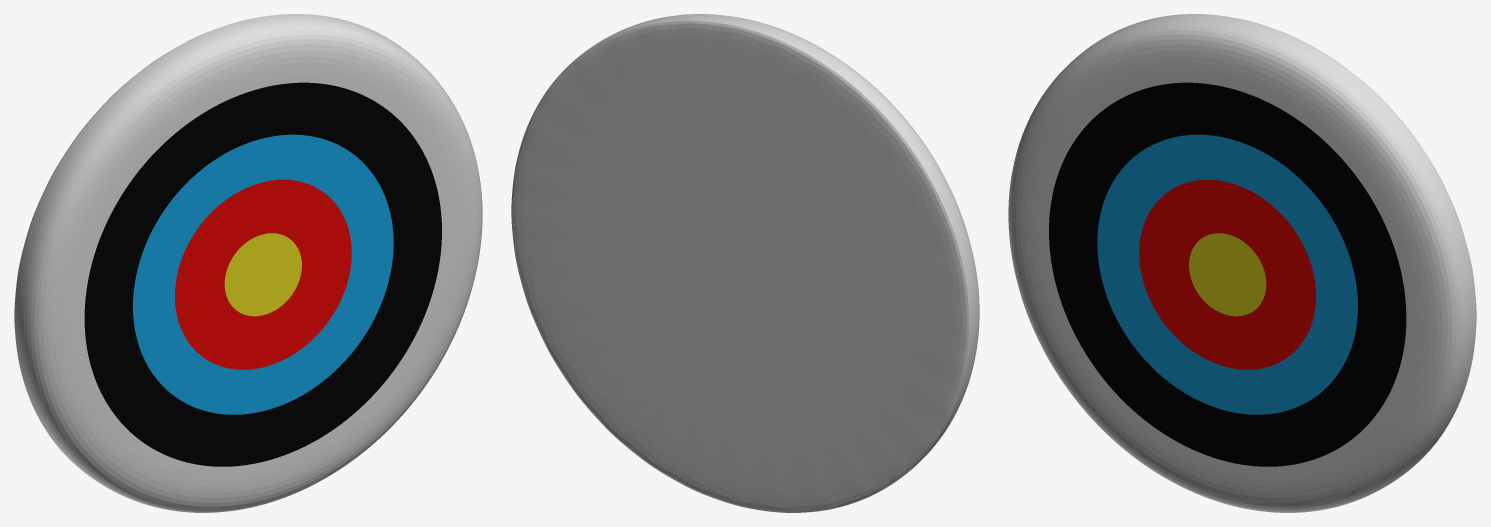
The model's file is DianaPack.fbx.
The picture shows the model from 3 angles, left to right: view 1: azimuth 30°, elevation 25°; view 2: azimuth 150°, elevation 25°; view 3: azimuth 330°, elevation 25°; orthographic projection.
Visible parts, largest first — view 1: black; view 2: black; view 3: black.
Part boxes in pixels (x1,y1,x2,y2): black: [14, 14, 482, 512]; black: [511, 14, 979, 512]; black: [1008, 14, 1476, 512].
Bounding box in the file's own units: 199 × 199 × 16.08.
